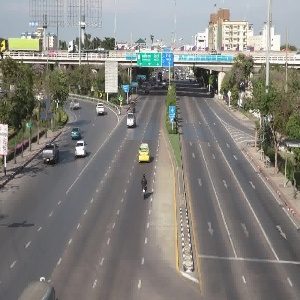car: (68, 139, 93, 161), (134, 141, 155, 163), (64, 123, 89, 139)
motorcycle: (131, 170, 157, 203)
truck: (36, 139, 63, 169)
